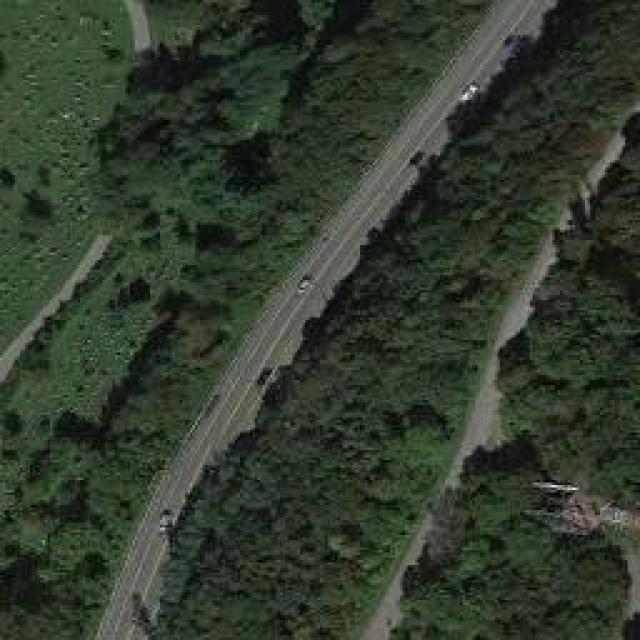Forest: (0, 0, 638, 638)
